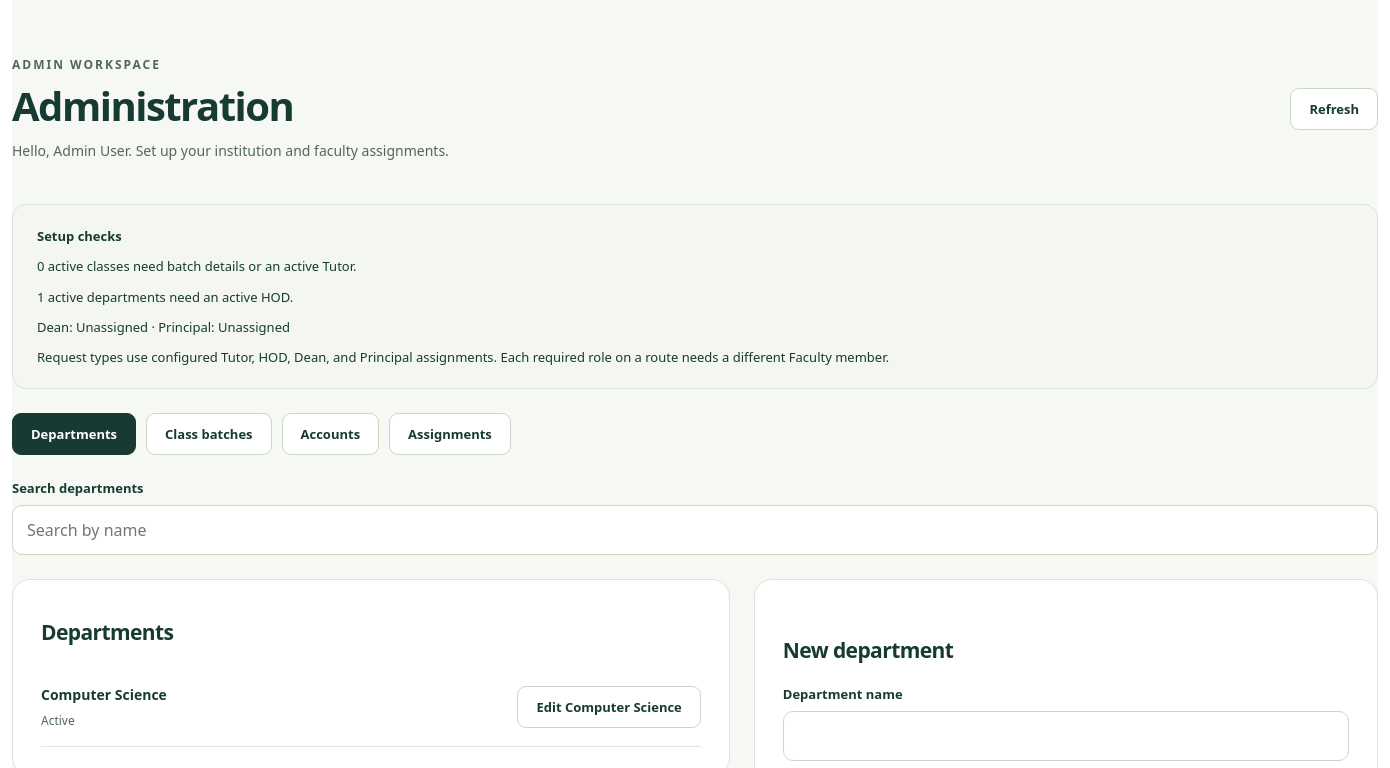
Test: Admin workspace › keeps invitations and resends disabled until email setup is verified
expect the text "Setup checks" is shown: met, box [37,227,122,245]
Click the button "Accounts". click: (330, 434)
box: [282,413,379,455]
(page scrolled)
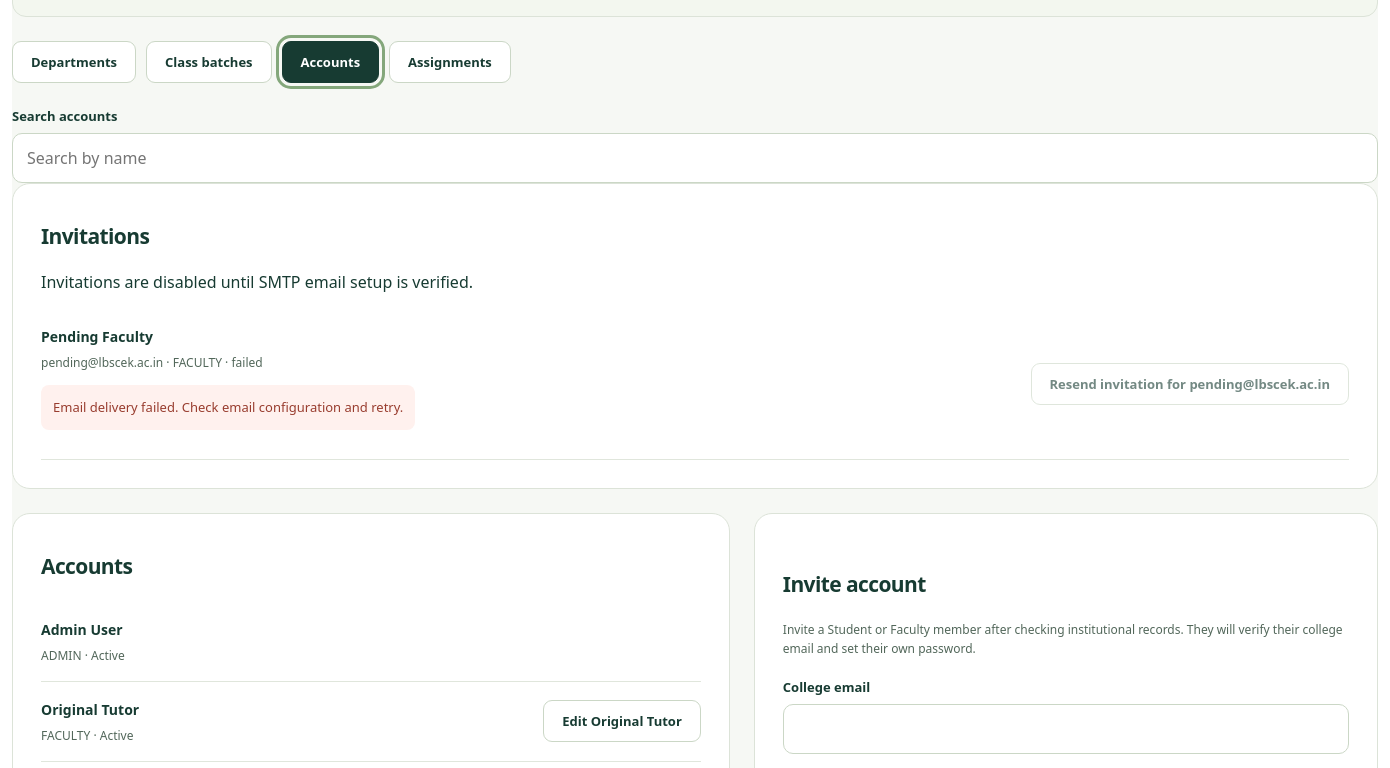
expect the button "Resend invitation for pending@lbscek.ac.in" is disabled: met, box [1030,363,1349,405]
